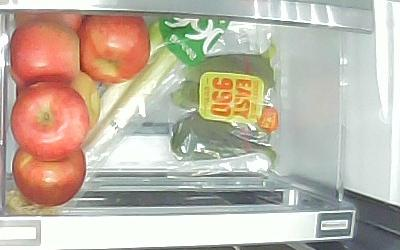apple: (11, 82, 89, 159), (78, 15, 150, 84), (11, 145, 85, 206), (9, 22, 80, 85), (70, 71, 101, 132), (15, 13, 86, 33)
